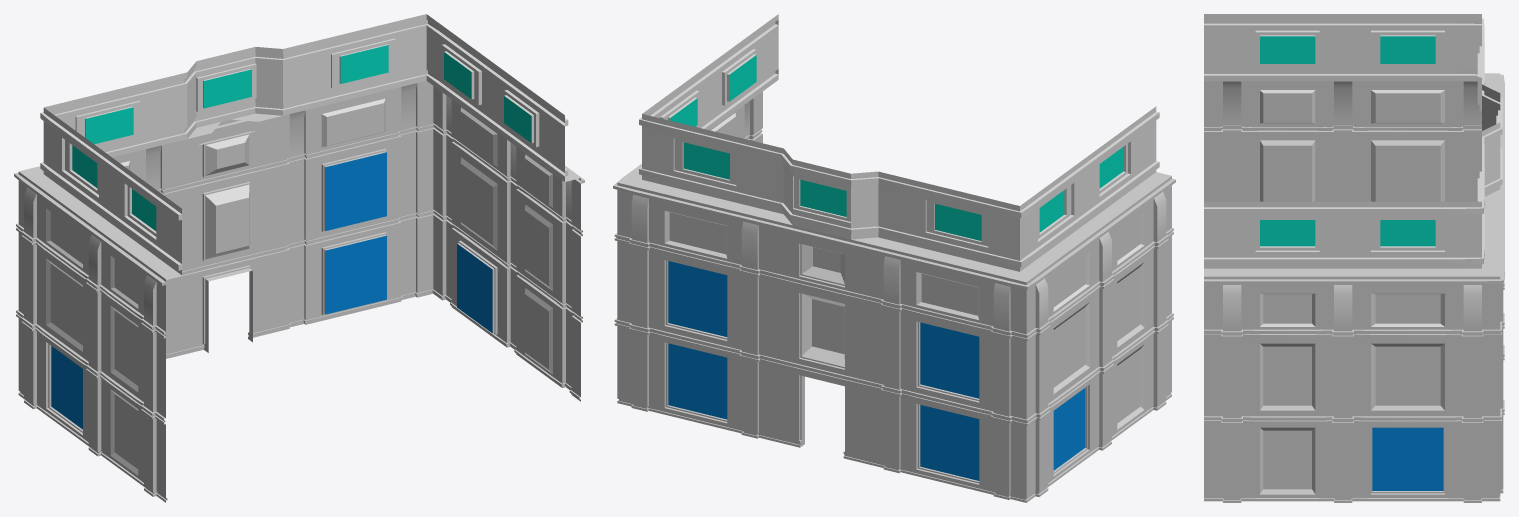
Rendered from Appartment type1.fbx.
3 views of the same model, side by side, from view 1: azimuth 30°, elevation 25°; view 2: azimuth 150°, elevation 25°; view 3: azimuth 270°, elevation 25° (orthographic).
Parts seen in each view (by area): view 1: Appartment_type2_Low, Appartment_type1_Top; view 2: Appartment_type2_Low, Appartment_type1_Top; view 3: Appartment_type2_Low, Appartment_type1_Top.
Boxes of the visible parts, x1,y1,x2,y2 form: Appartment_type2_Low: (14, 81, 584, 502); Appartment_type1_Top: (40, 14, 568, 274); Appartment_type2_Low: (613, 91, 1175, 502); Appartment_type1_Top: (639, 14, 1159, 271); Appartment_type2_Low: (1204, 73, 1504, 502); Appartment_type1_Top: (1204, 14, 1502, 268).
Bounding box in the file's own units: 13.35 × 8.7 × 8.13.
